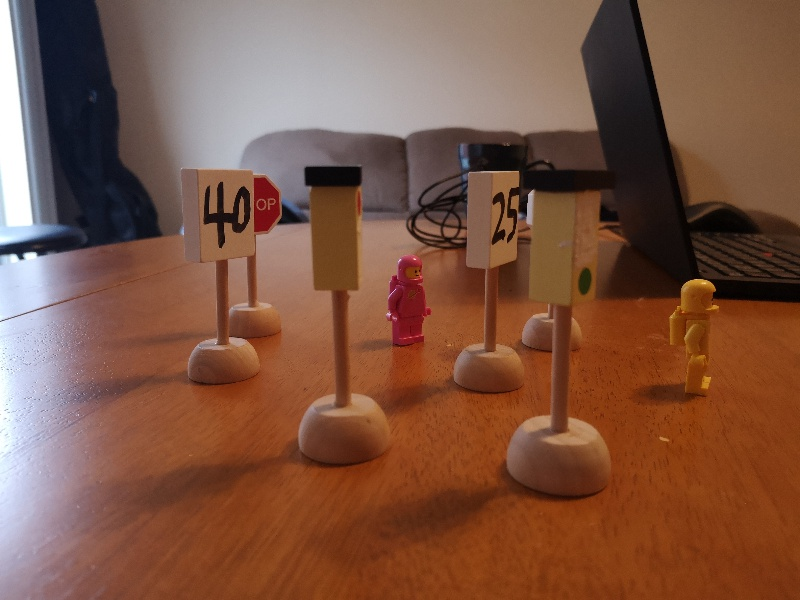Green Traffic Light: (524, 170, 612, 304)
Person: (671, 278, 718, 397), (385, 255, 431, 347)
Red Traffic Light: (303, 166, 365, 295)
Speed Limit 25: (465, 172, 520, 271)
Speed Limit 40: (181, 168, 257, 263)
Stop Sign: (253, 174, 283, 237)
